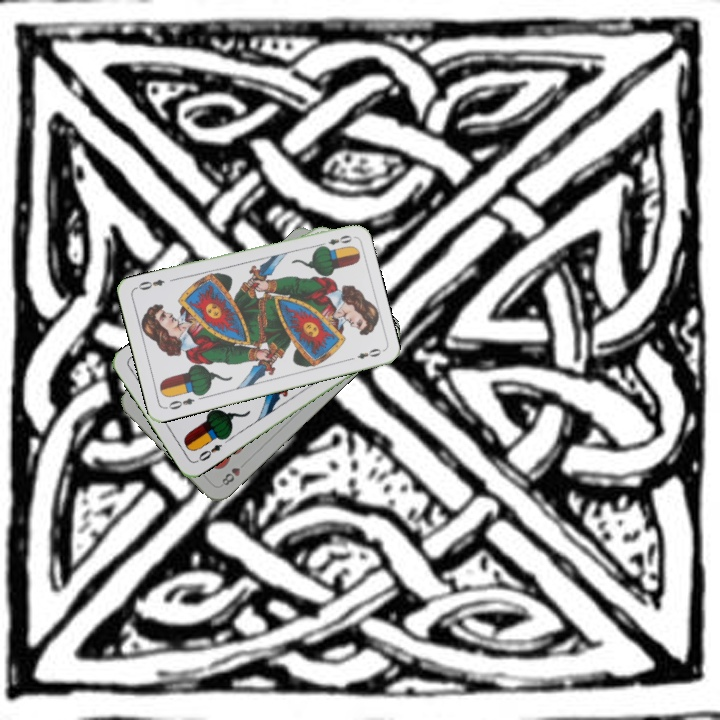EO: (192, 440, 224, 465), (315, 231, 355, 250), (162, 394, 197, 412)
H8: (217, 463, 243, 489)
